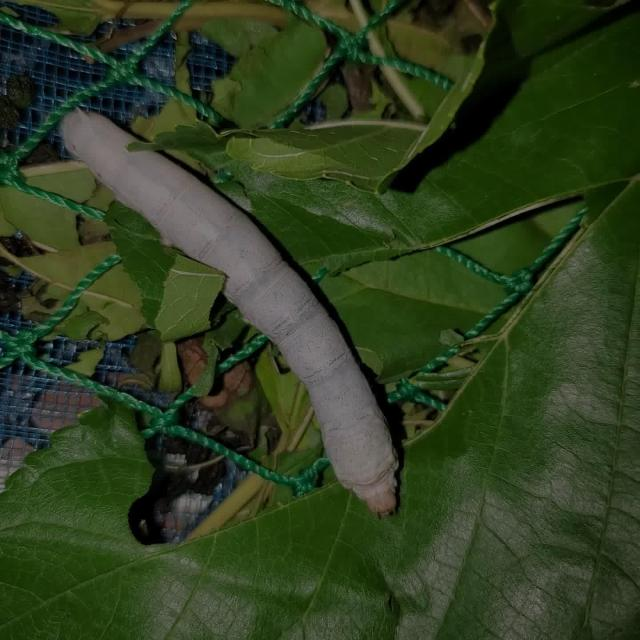Healthy: (51, 95, 412, 529)
